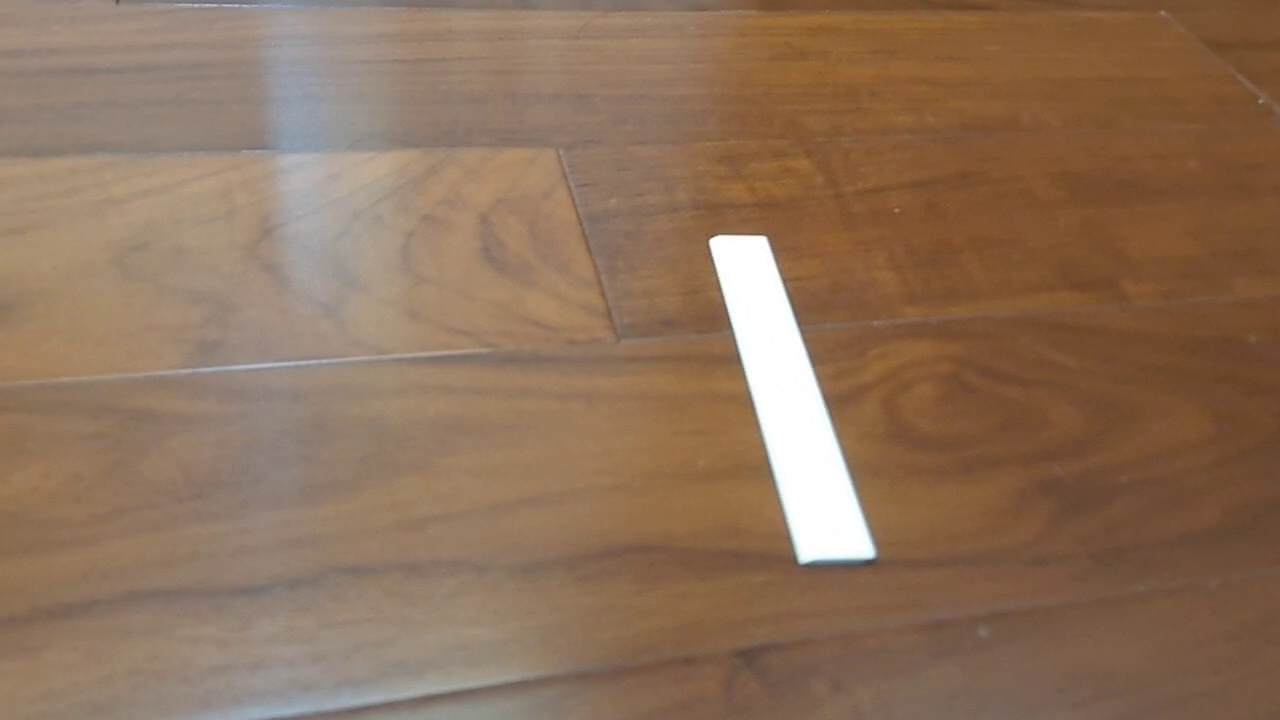ruler: (703, 233, 880, 567)
